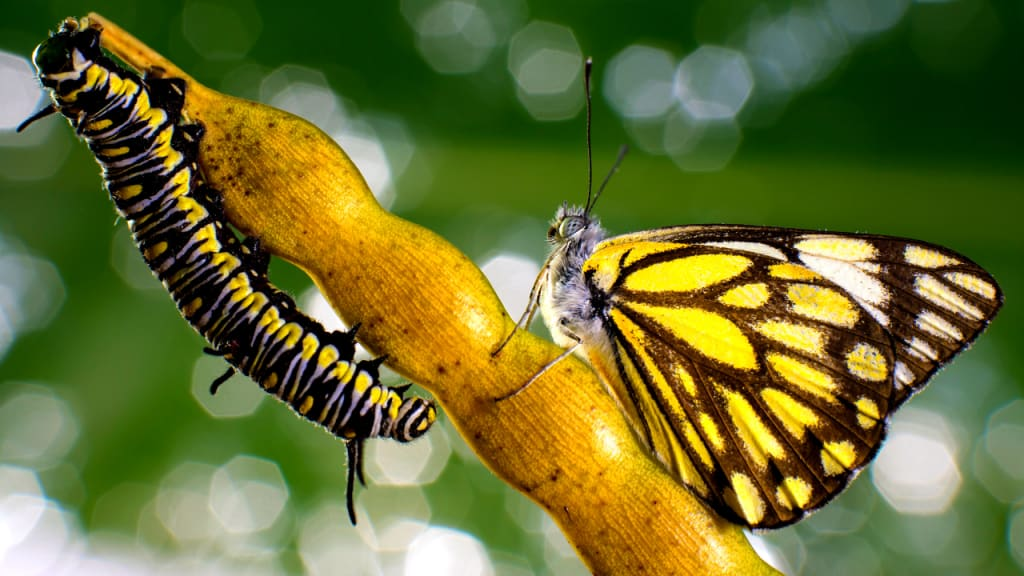Butterfly: (482, 56, 1006, 532)
Caterpillar: (16, 17, 436, 532)
